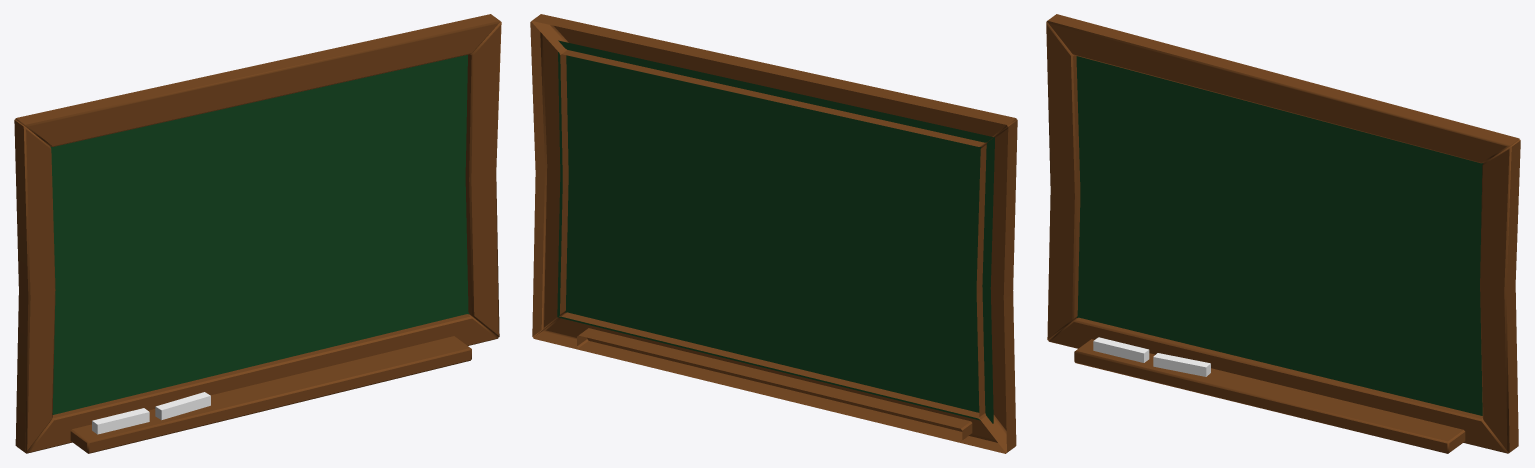
Rendered from Blackboard.fbx.
3 renders of one model, left to right at view 1: azimuth 30°, elevation 25°; view 2: azimuth 150°, elevation 25°; view 3: azimuth 330°, elevation 25°, orthographic. The views are drawn at different scales.
Parts seen in each view (by area): view 1: Blackboard; view 2: Blackboard; view 3: Blackboard.
Boxes of the visible parts, x1,y1,x2,y2 form: Blackboard: (14, 14, 501, 453); Blackboard: (530, 14, 1017, 453); Blackboard: (1046, 14, 1520, 453).
Size of the model in its own units: 2.01 by 1.33 by 0.2.
